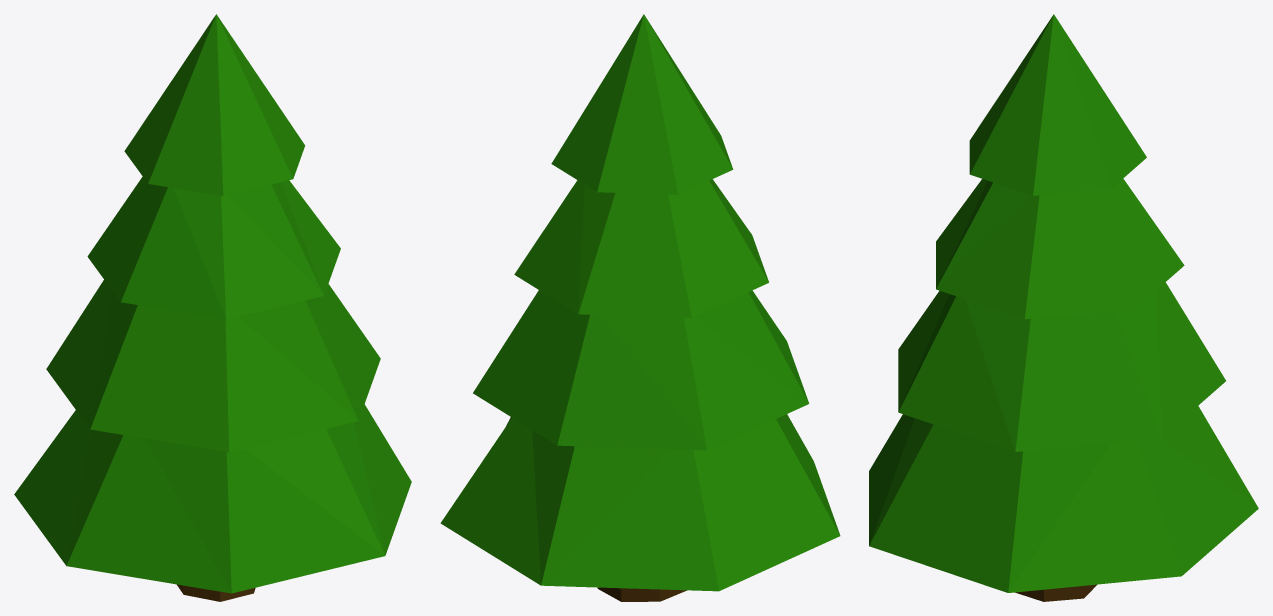
File: PineTree.fbx
3 views of the same model, side by side, from view 1: azimuth 30°, elevation 25°; view 2: azimuth 150°, elevation 25°; view 3: azimuth 270°, elevation 25° (orthographic).
Visible parts, largest first — view 1: Circle; view 2: Circle; view 3: Circle.
Boxes of the visible parts, x1,y1,x2,y2 form: Circle: (14, 14, 411, 601); Circle: (440, 14, 840, 601); Circle: (869, 14, 1258, 601).
Size of the model in its own units: 1191 by 1871 by 1161.
